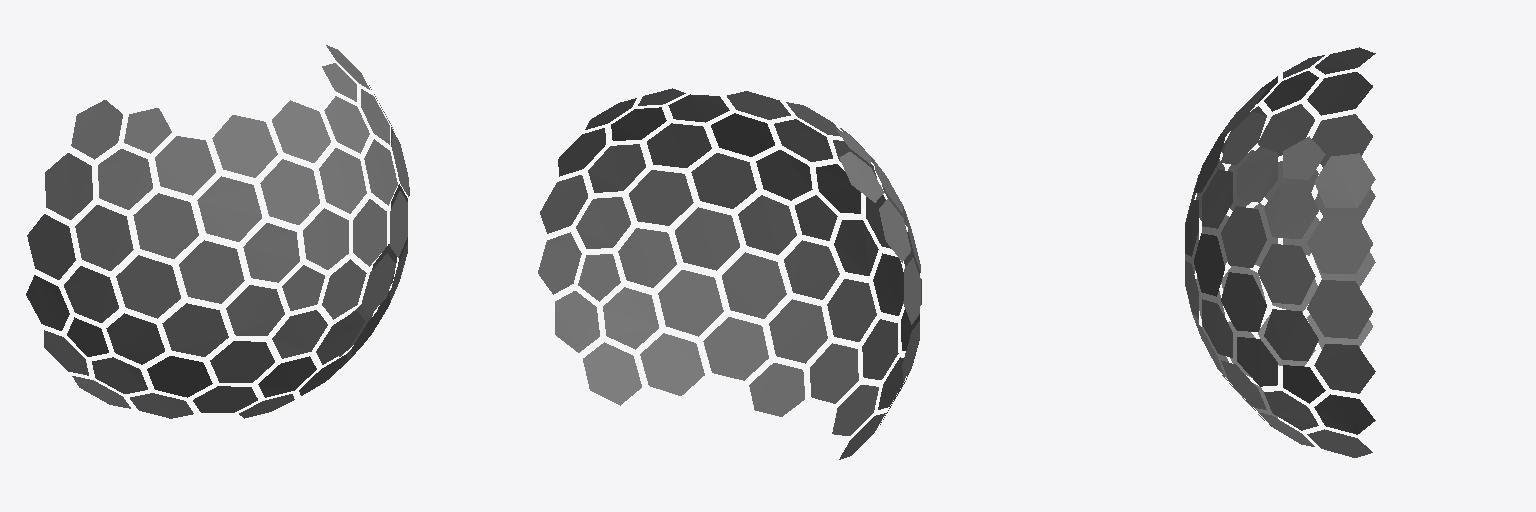
Rendered from Sebasbossshield.obj.
The picture shows the model from 3 angles: view 1: azimuth 30°, elevation 25°; view 2: azimuth 150°, elevation 25°; view 3: azimuth 270°, elevation 25°; orthographic projection.
Visible parts, largest first — view 1: faceshexa pPlatonic2; view 2: faceshexa pPlatonic2; view 3: faceshexa pPlatonic2.
Boxes of the visible parts, x1,y1,x2,y2 form: faceshexa pPlatonic2: [26, 45, 409, 418]; faceshexa pPlatonic2: [538, 88, 921, 459]; faceshexa pPlatonic2: [1185, 47, 1375, 457].
Size of the model in its own units: 3.68 by 3.06 by 1.67.